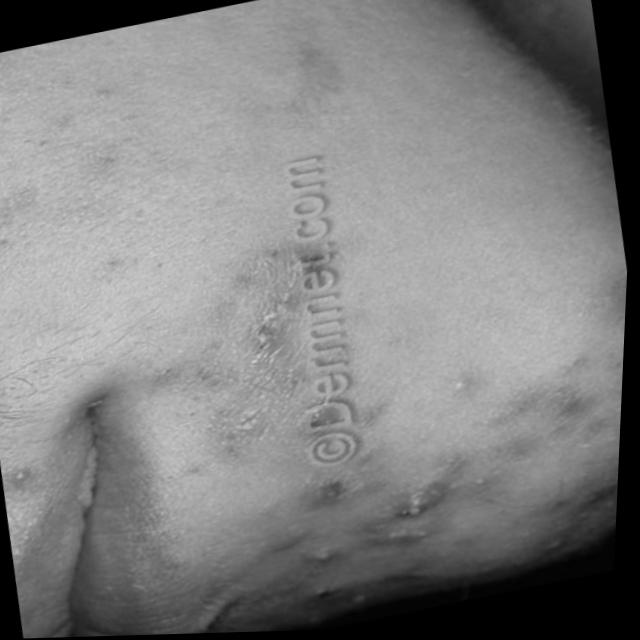Acne: (187, 190, 631, 634)
